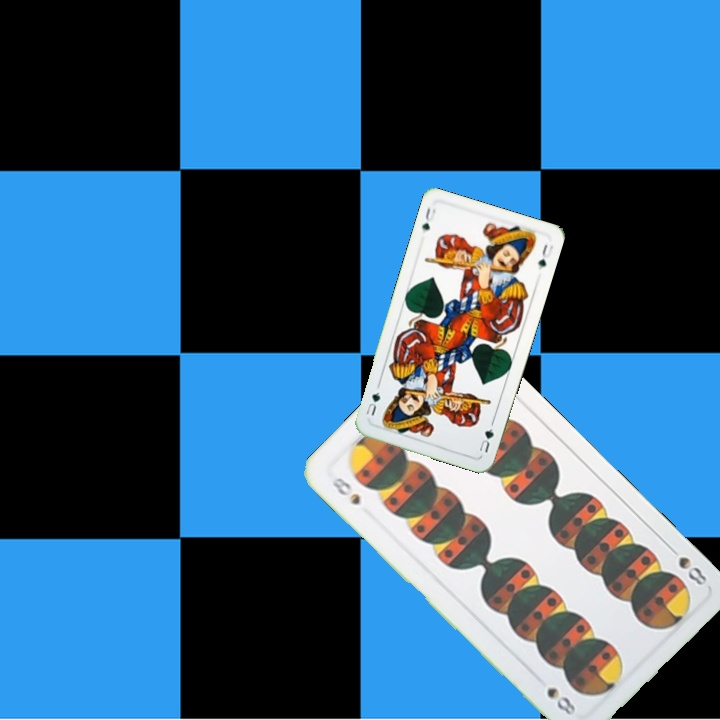GU: (475, 423, 496, 455), (418, 203, 438, 236)
S8: (663, 541, 710, 589), (327, 473, 363, 508)
